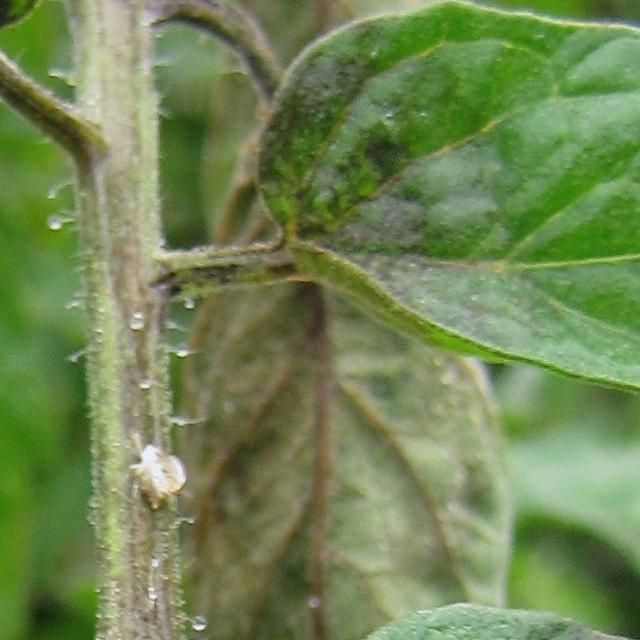Tomato leaf late blight: (210, 621, 640, 640)
